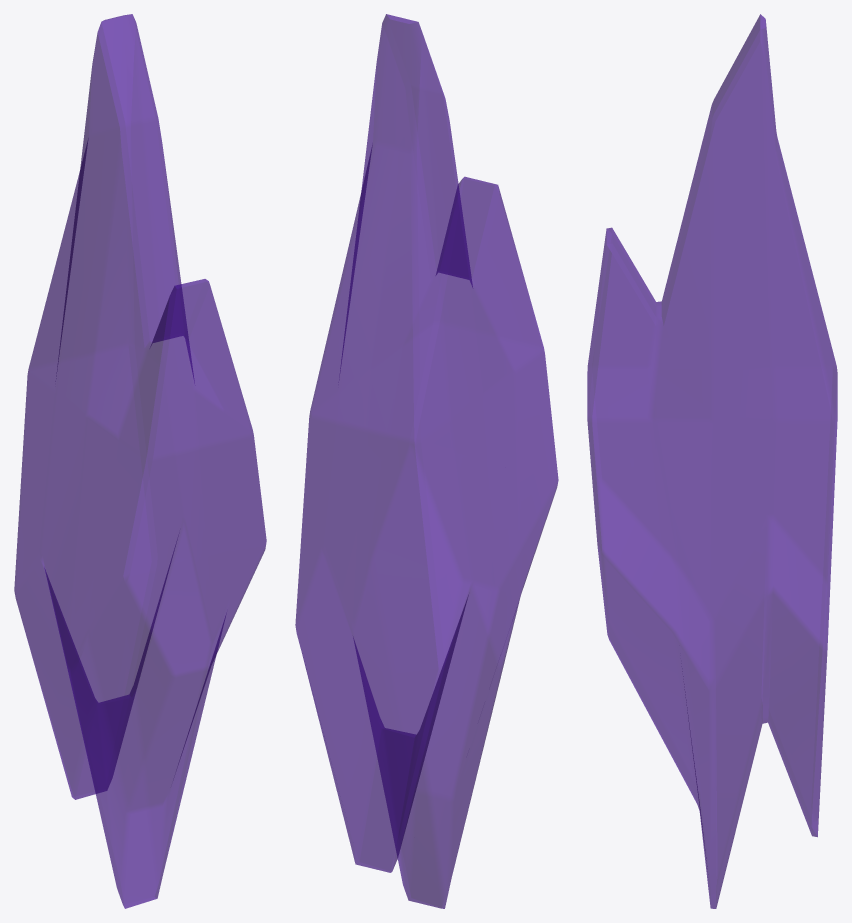
The model's file is CrystalShard3.fbx.
The picture shows the model from 3 angles, left to right: view 1: azimuth 30°, elevation 25°; view 2: azimuth 150°, elevation 25°; view 3: azimuth 270°, elevation 25°; orthographic projection. The views are drawn at different scales.
Visible parts, largest first — view 1: CrystalShard3; view 2: CrystalShard3; view 3: CrystalShard3.
Boxes of the visible parts, bbox=[...] form: CrystalShard3: bbox=[14, 14, 266, 908]; CrystalShard3: bbox=[295, 14, 558, 908]; CrystalShard3: bbox=[587, 14, 837, 908].
Bounding box in the file's own units: 0.0687 × 0.3972 × 0.1021.
